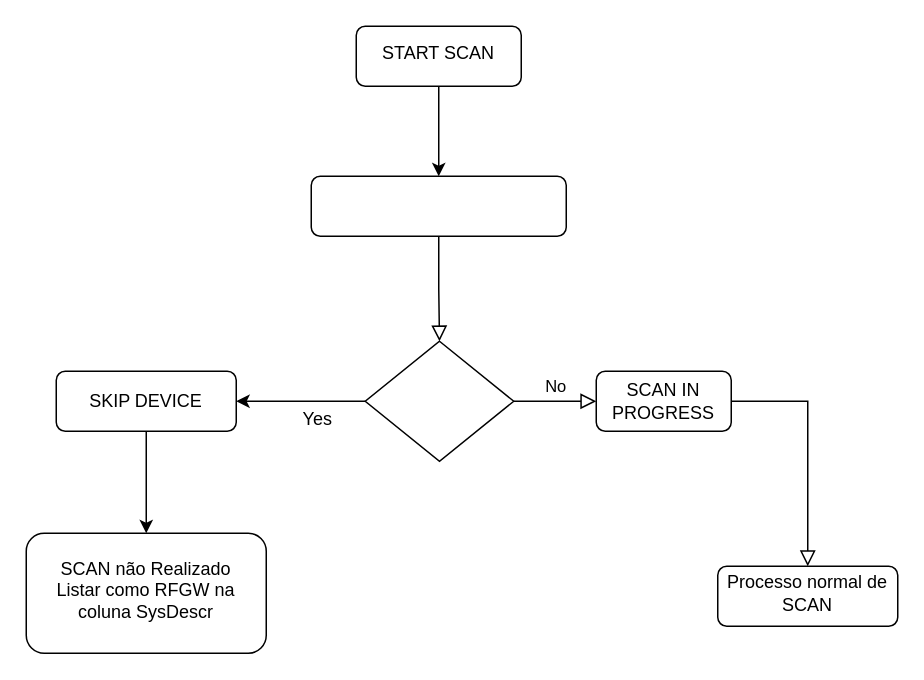
The diagram is 924 pixels wide and 680 high, and some of its shapes have lost their labels. The shapes that lost their labels are listed below. From the top down, each one's box as (x1, y1, x2, y2) in pixels, then its label:
(310, 175, 566, 236): PLUGIN 11936
(364, 340, 514, 461): Is a RFGW?
